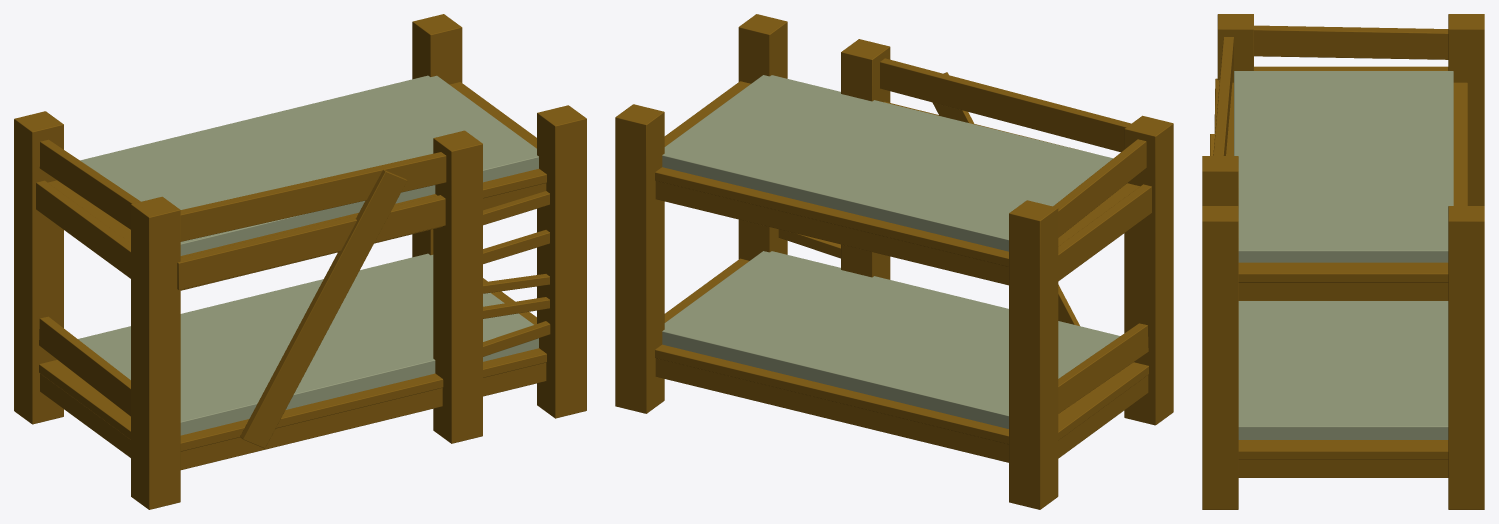
File: Bed.fbx
3 renders of one model, left to right at view 1: azimuth 30°, elevation 25°; view 2: azimuth 150°, elevation 25°; view 3: azimuth 270°, elevation 25°, orthographic.
Parts seen in each view (by area): view 1: Cube.009; view 2: Cube.009; view 3: Cube.009.
Boxes of the visible parts, bbox=[...] form: Cube.009: bbox=[14, 14, 586, 509]; Cube.009: bbox=[615, 14, 1173, 509]; Cube.009: bbox=[1202, 14, 1484, 509].
Size of the model in its own units: 2.9 by 1.67 by 1.89.
